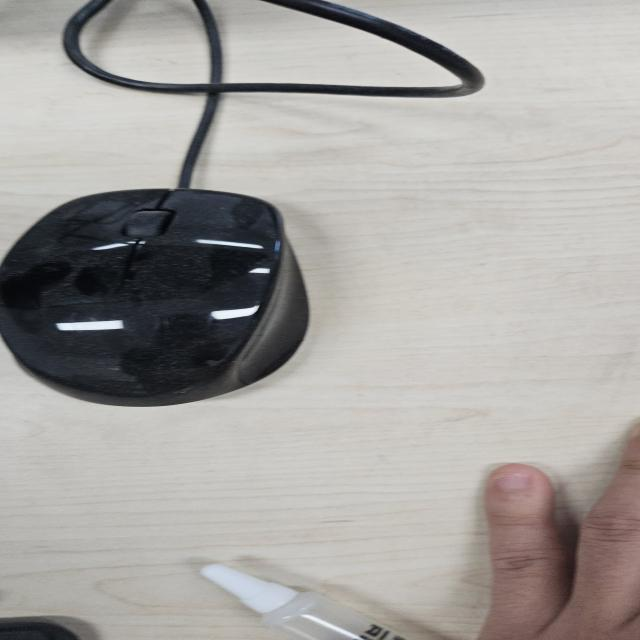Mouse: (2, 186, 313, 408)
